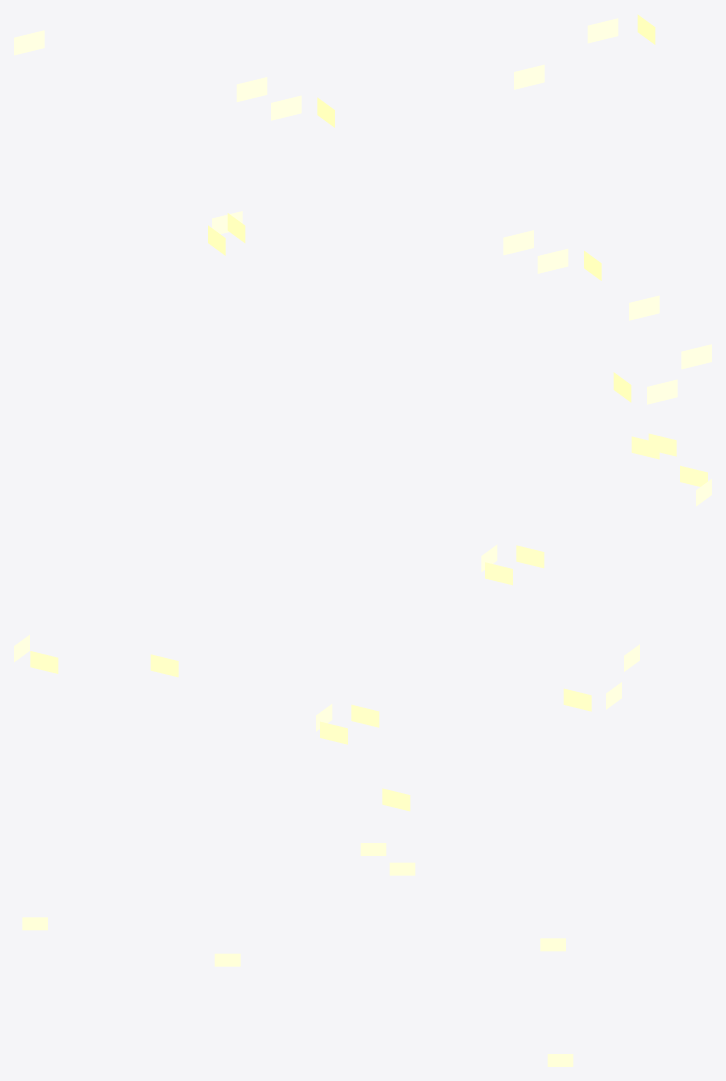
File: object_22_lev1_lev2.glb
The picture shows the model from 3 angles, top to bottom: view 1: azimuth 30°, elevation 25°; view 2: azimuth 150°, elevation 25°; view 3: azimuth 270°, elevation 25°; orthographic projection. The views are drawn at different scales.
Visible parts, largest first — view 1: object_22_lev1_lev2; view 2: object_22_lev1_lev2; view 3: object_22_lev1_lev2.
Part boxes in pixels (bbox=[...]): object_22_lev1_lev2: bbox=[14, 14, 711, 404]; object_22_lev1_lev2: bbox=[14, 433, 711, 811]; object_22_lev1_lev2: bbox=[22, 843, 573, 1066].
Bounding box in the file's own units: 39.01 × 4.96 × 60.17.
